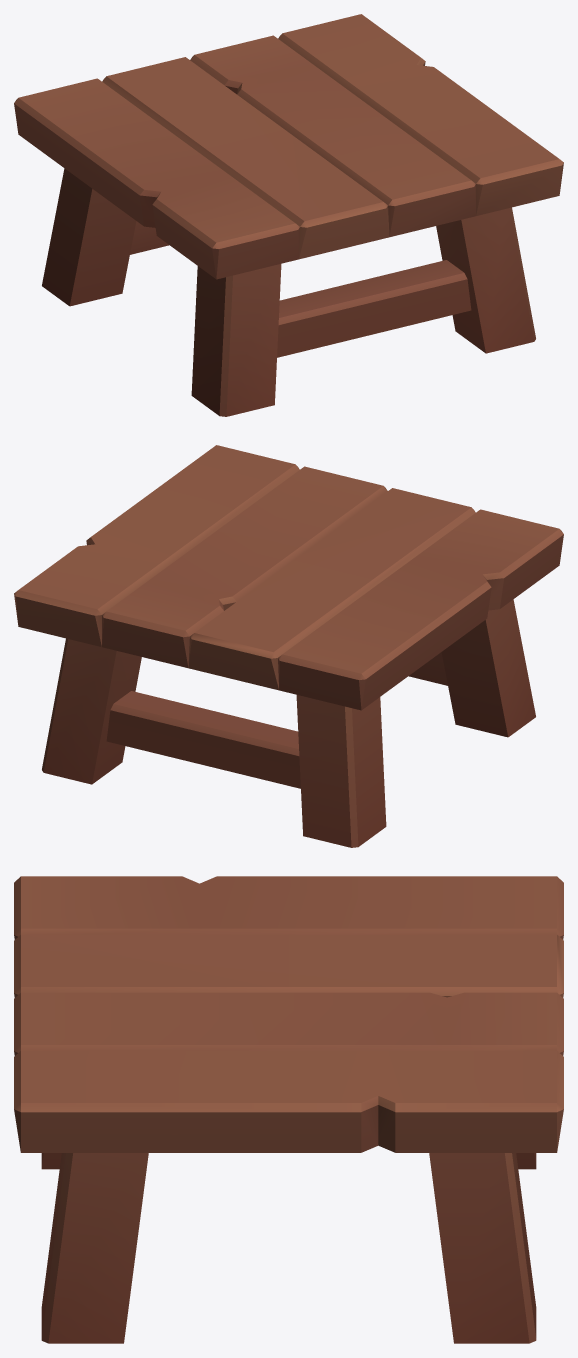
Rendered from fw_table_oak.glb.
3 renders of one model, top to bottom at view 1: azimuth 30°, elevation 25°; view 2: azimuth 150°, elevation 25°; view 3: azimuth 270°, elevation 25°, orthographic. The views are drawn at different scales.
Parts seen in each view (by area): view 1: body; view 2: body; view 3: body.
Part boxes in pixels (box(x1,y1,x2,y2)): body: box(14, 14, 563, 416); body: box(14, 445, 563, 847); body: box(14, 876, 563, 1343).
Size of the model in its own units: 1.5 by 0.75 by 1.5.
